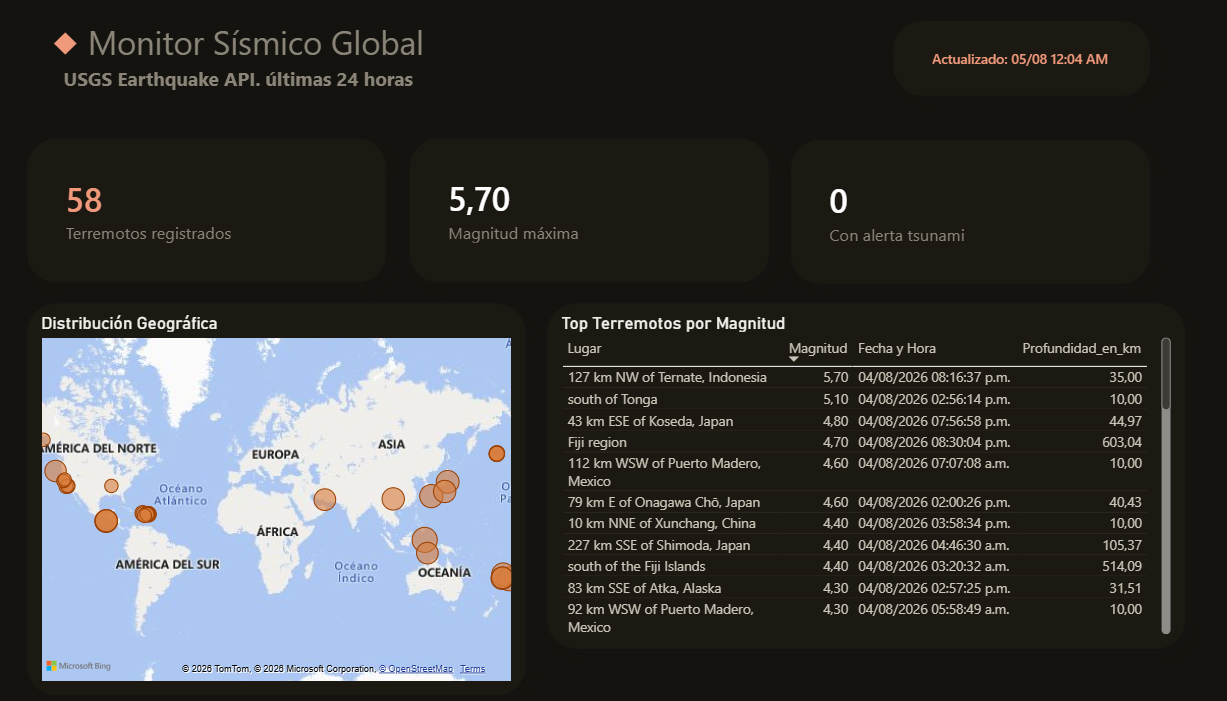

This screenshot's page, from the dashboard's own definition file:
{"tool":"powerbi","page":{"name":"Página 1","canvas":[1280,720],"ordinal":0},"visuals":[{"type":"cardVisual","fields":{"Data":["CountNonNull(public terremotos.id)"]},"box":[99.4,139.9,354.6,143.6],"z":0},{"type":"map","title":"Distribución Geográfica","fields":{"Y":["public terremotos.latitud"],"X":["public terremotos.longitud"],"Size":["Sum(public terremotos.magnitud)"]},"box":[99.4,301.8,490.8,386.5],"z":1000},{"type":"actionButton","box":[0,0,100,40],"z":2000},{"type":"tableEx","title":"Top Terremotos por Magnitud","fields":{"Values":["public terremotos.lugar","public terremotos.magnitud","public terremotos.fecha","public terremotos.profundidad_km"]},"box":[609.8,301.8,628.2,341.1],"z":3000},{"type":"textbox","box":[110.4,19.6,672.4,85.9],"z":4000},{"type":"cardVisual","fields":{"Data":["Max(public terremotos.magnitud)"]},"box":[474.8,139.9,354.6,143.6],"z":5000},{"type":"cardVisual","fields":{"Data":["Sum(public terremotos.alerta_tsunami)"]},"box":[849.1,141.1,354.6,143.6],"z":6000},{"type":"cardVisual","fields":{"Data":["public terremotos.UltimaActualizacion"]},"box":[949.7,24.5,254,74.8],"z":7000}]}

Visuals, with their boxes in screenshot pixels (x1, y1, x2, y2), scaled from the page's 1280x720 canvas onto the 1227x701 screenshot:
cardVisual - CountNonNull(public terremotos.id): {"x1": 95, "y1": 136, "x2": 435, "y2": 276}
"Distribución Geográfica" map: {"x1": 95, "y1": 294, "x2": 566, "y2": 670}
actionButton: {"x1": 0, "y1": 0, "x2": 96, "y2": 39}
"Top Terremotos por Magnitud" tableEx: {"x1": 585, "y1": 294, "x2": 1187, "y2": 626}
textbox: {"x1": 106, "y1": 19, "x2": 750, "y2": 103}
cardVisual - Max(public terremotos.magnitud): {"x1": 455, "y1": 136, "x2": 795, "y2": 276}
cardVisual - Sum(public terremotos.alerta_tsunami): {"x1": 814, "y1": 137, "x2": 1154, "y2": 277}
cardVisual - public terremotos.UltimaActualizacion: {"x1": 910, "y1": 24, "x2": 1154, "y2": 97}
